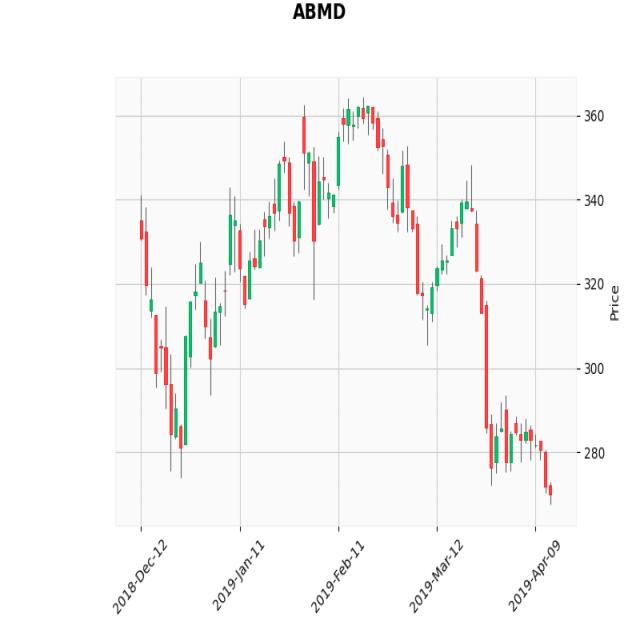Head-Shoulders: (287, 95, 432, 302)
